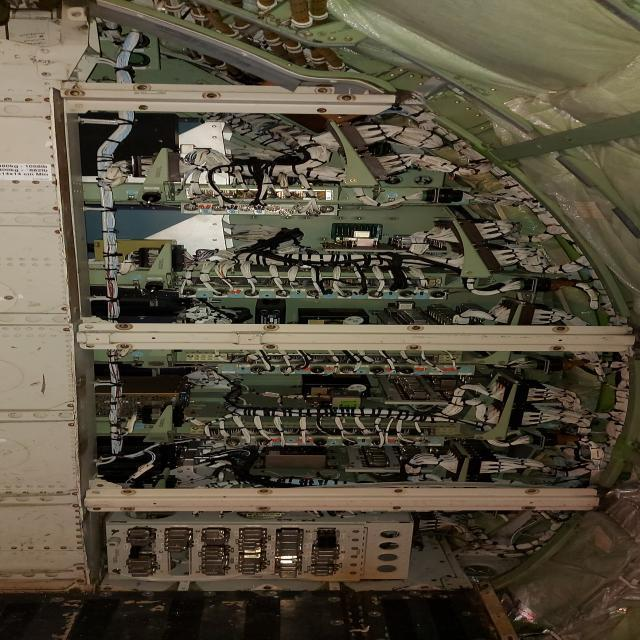Missing Fastener: (108, 322, 140, 331), (256, 342, 284, 350), (260, 323, 284, 332), (129, 102, 155, 110), (306, 86, 332, 94), (550, 325, 574, 333), (520, 488, 544, 496), (118, 506, 142, 514), (112, 343, 136, 351), (401, 343, 424, 351), (406, 323, 426, 332), (253, 504, 274, 512), (548, 344, 568, 352), (519, 504, 539, 512), (130, 83, 150, 91), (119, 488, 138, 496), (256, 488, 274, 496), (390, 489, 410, 495), (312, 107, 332, 113), (390, 506, 406, 510)
